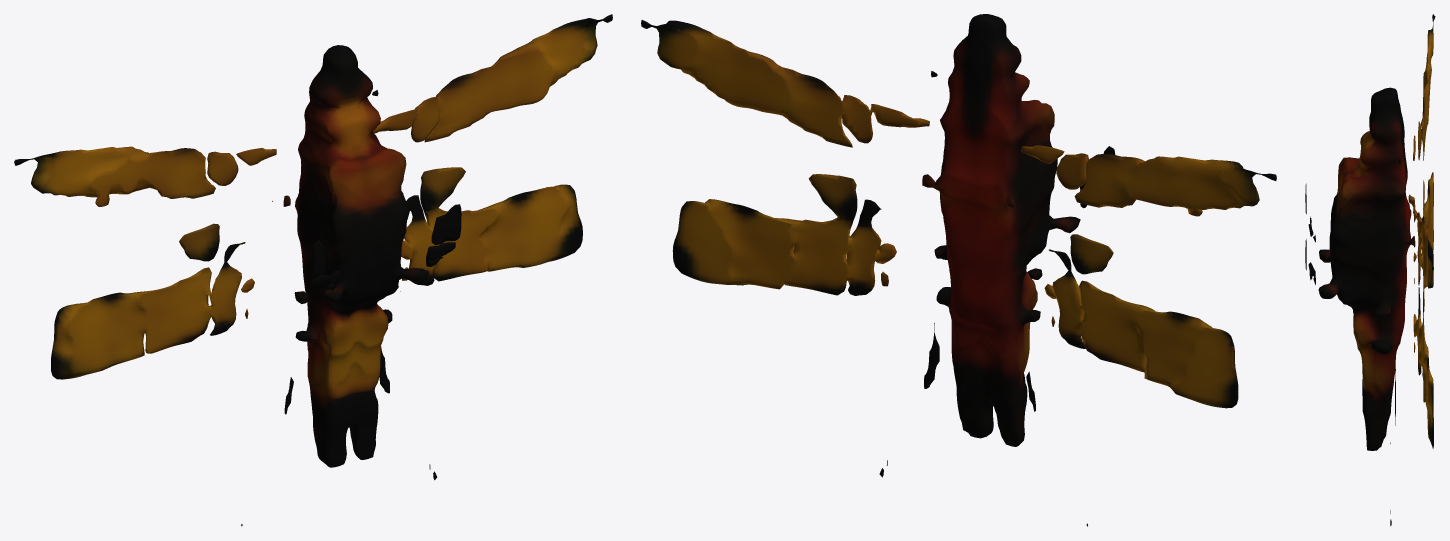
The picture shows the model from 3 angles, left to right: view 1: azimuth 30°, elevation 25°; view 2: azimuth 150°, elevation 25°; view 3: azimuth 270°, elevation 25°; orthographic projection. The views are drawn at different scales.
Visible parts, largest first — view 1: plyFile; view 2: plyFile; view 3: plyFile.
Part boxes in pixels (left/top/right/bottom): plyFile: left=14, top=14, right=612, bottom=526; plyFile: left=641, top=14, right=1276, bottom=526; plyFile: left=1305, top=14, right=1435, bottom=526.
Bounding box in the file's own units: 197 × 144 × 42.9.
